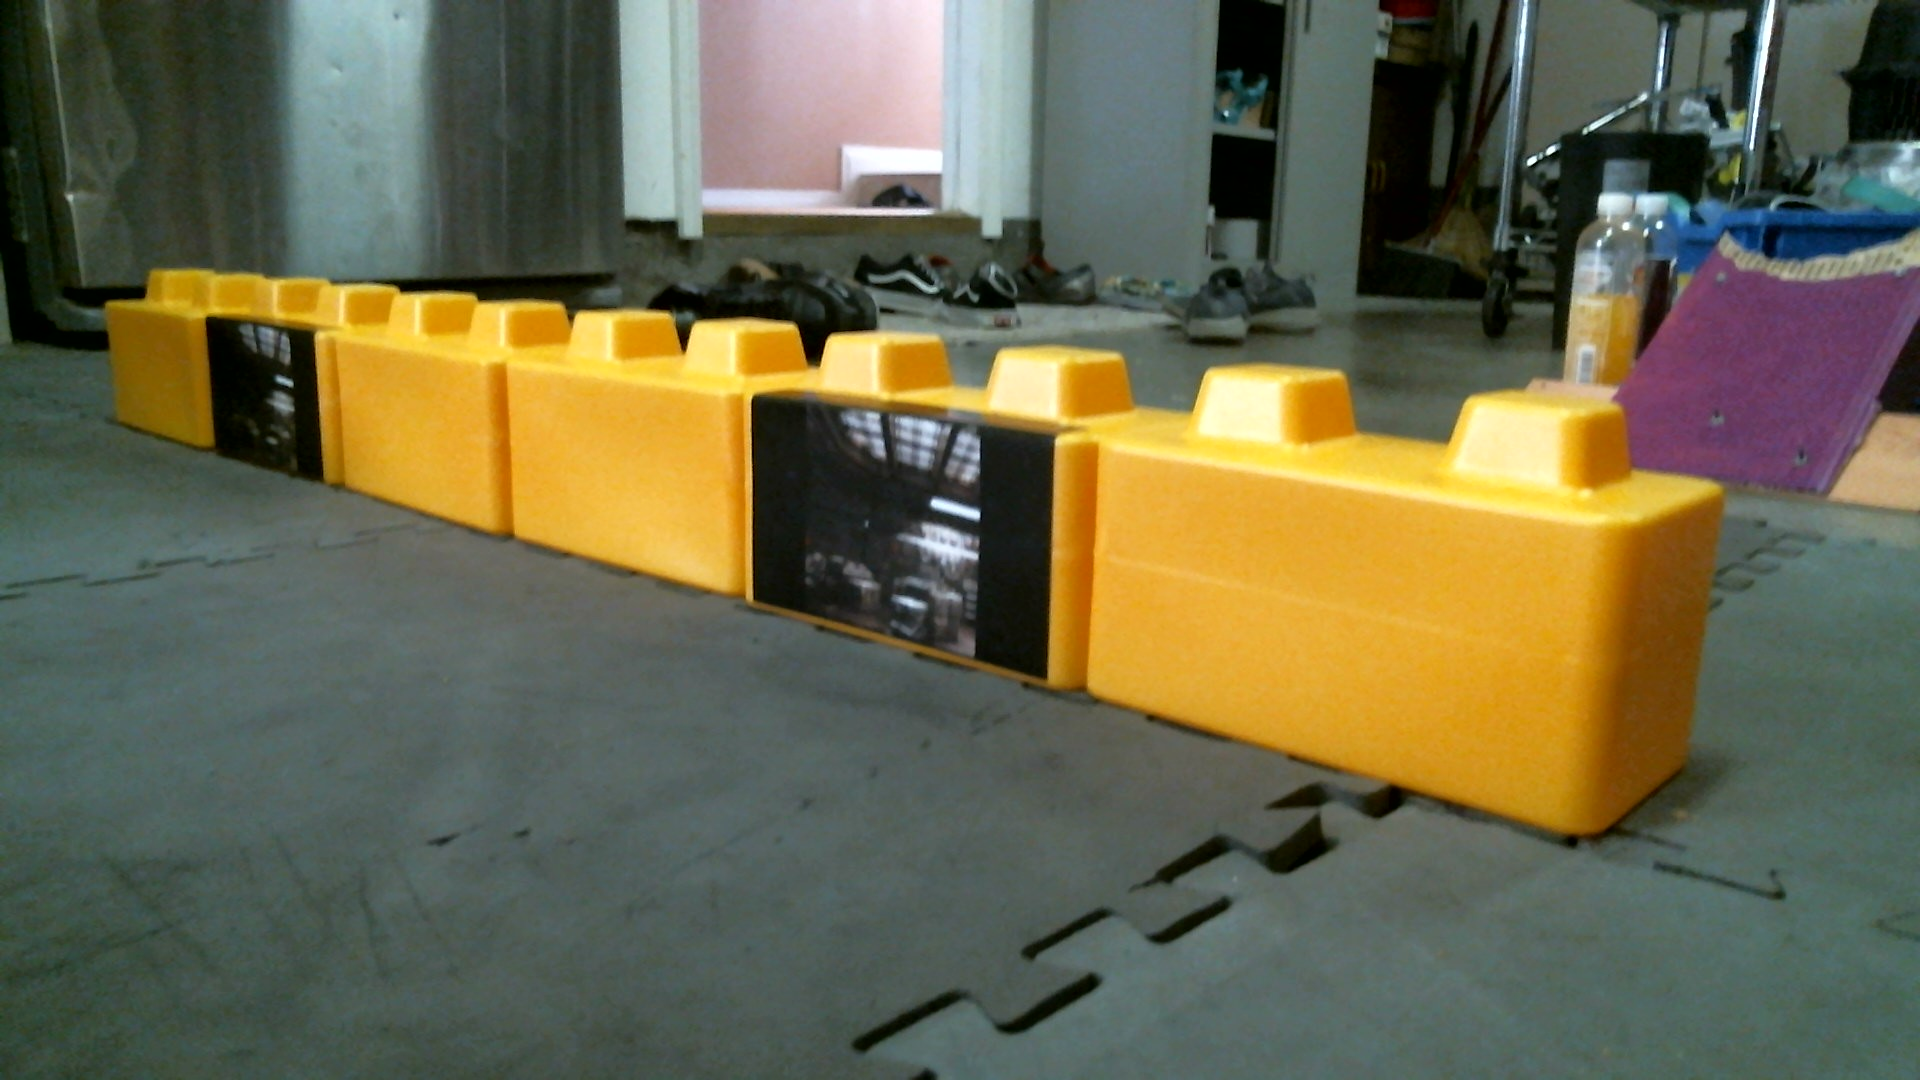skystone: (738, 326, 1116, 692), (193, 278, 389, 491)
stone: (1085, 361, 1720, 843), (510, 305, 785, 609), (334, 287, 551, 538), (102, 269, 251, 447)
